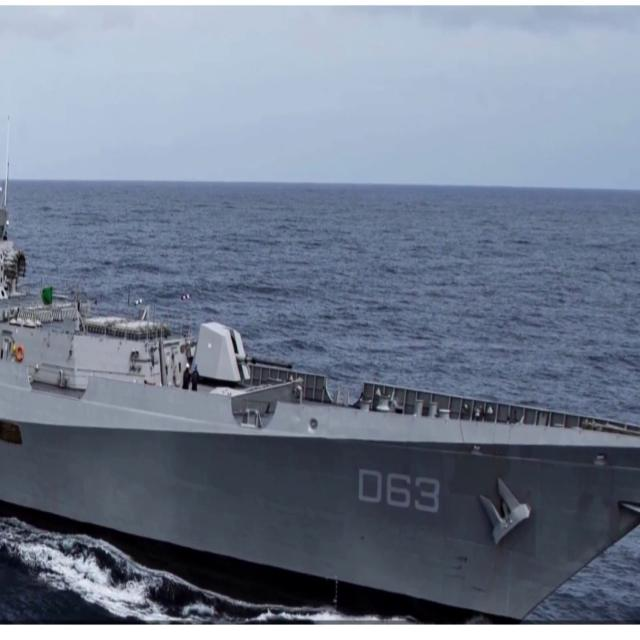OCR: (353, 460, 440, 517)
